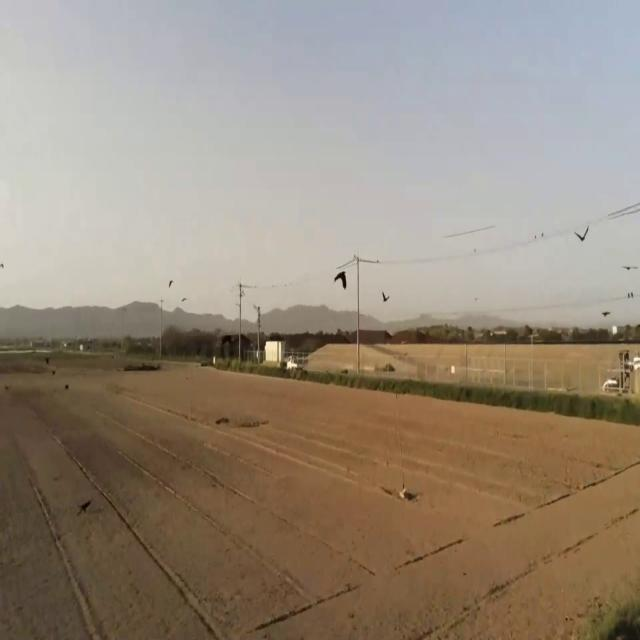bird: (574, 221, 590, 250), (334, 262, 348, 294), (623, 257, 634, 276), (381, 285, 389, 307), (601, 304, 610, 321), (628, 289, 633, 303)
